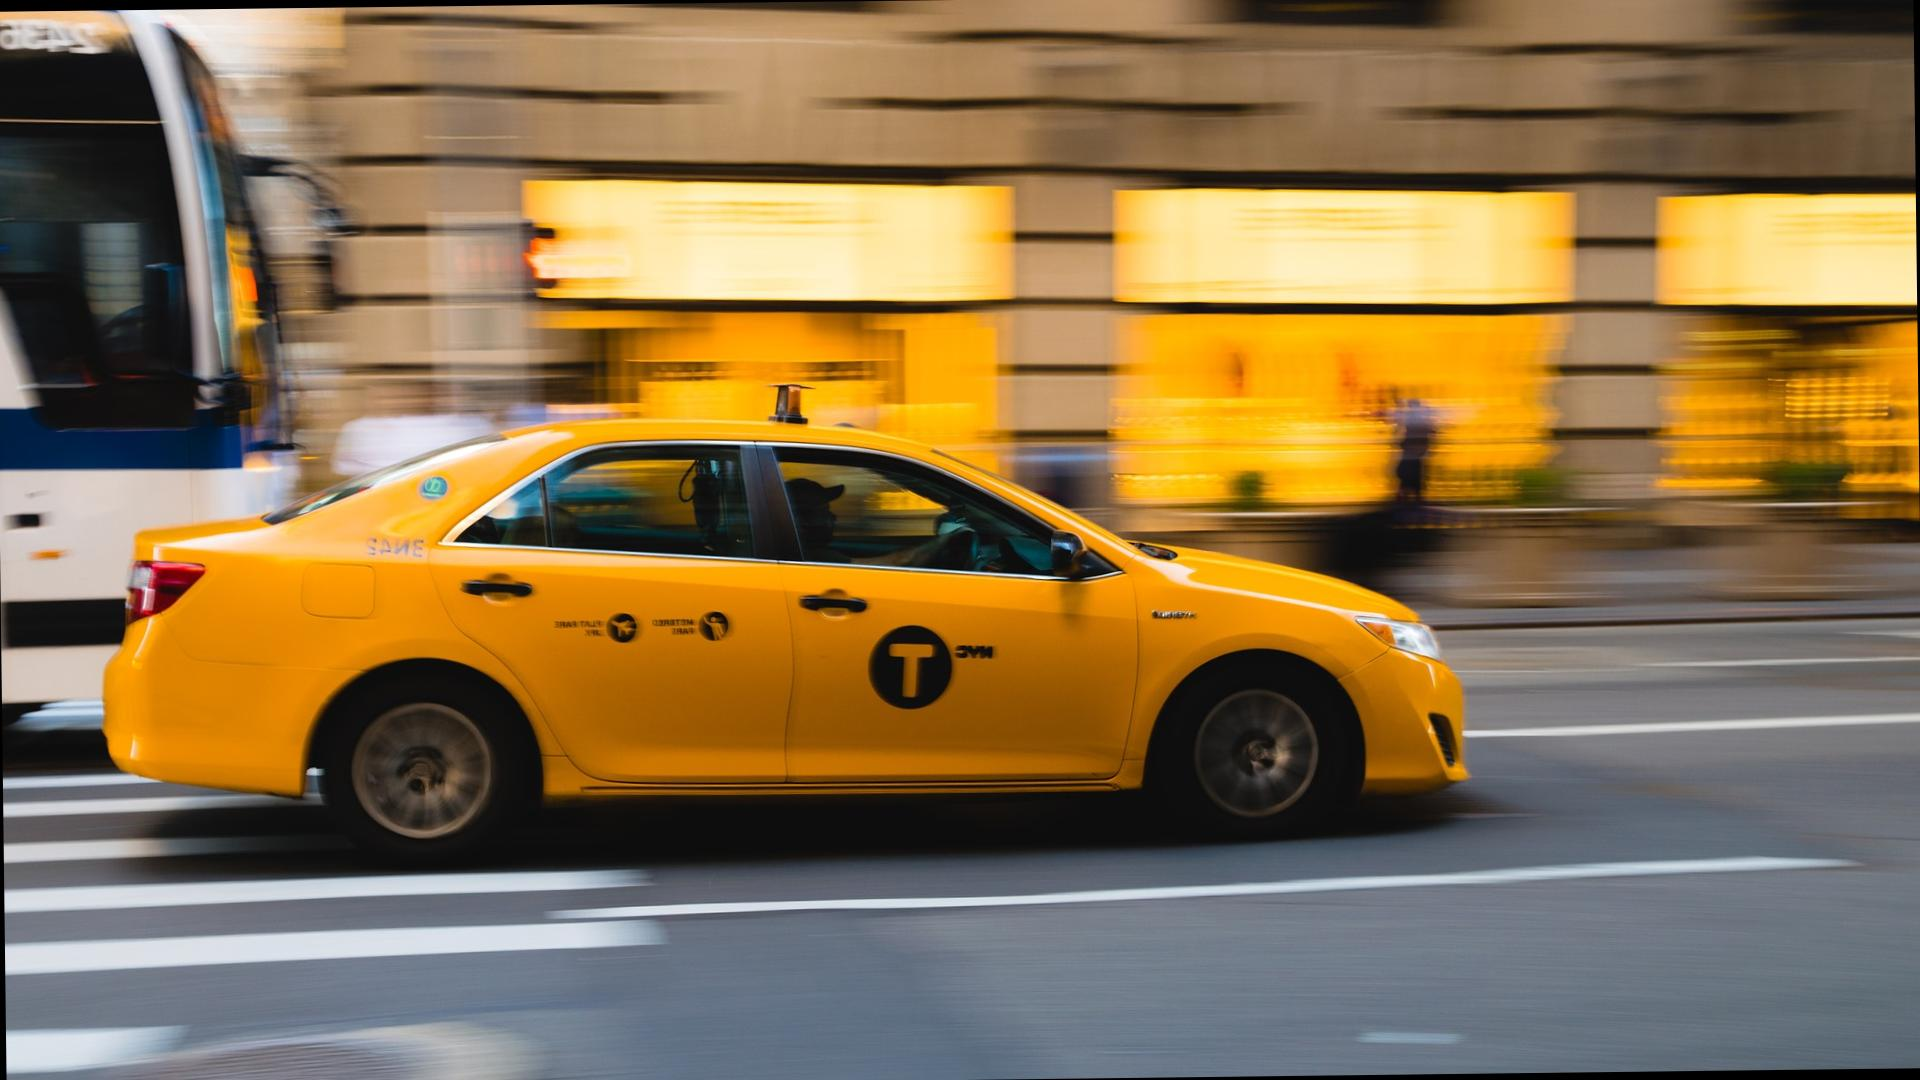taxi: (103, 414, 1514, 829)
